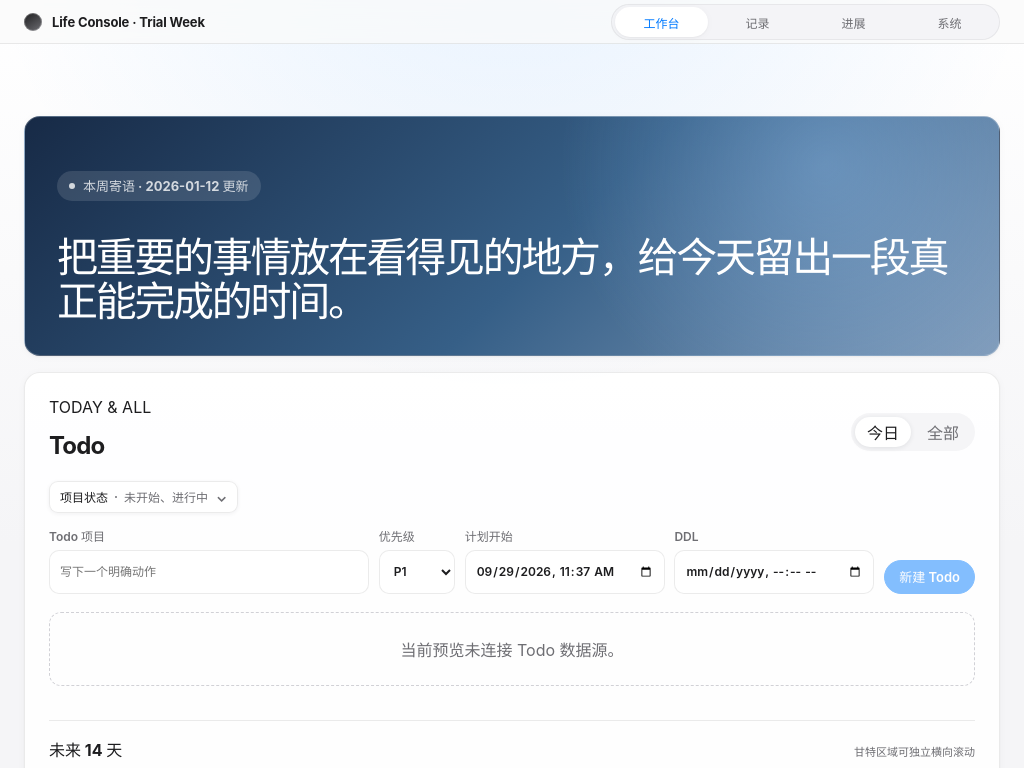
Test case: Life Console synthetic UI › keeps confirmed auxiliary goals on the progress page
Click the button "进展": {"x": 854, "y": 22} [807,7,900,37]
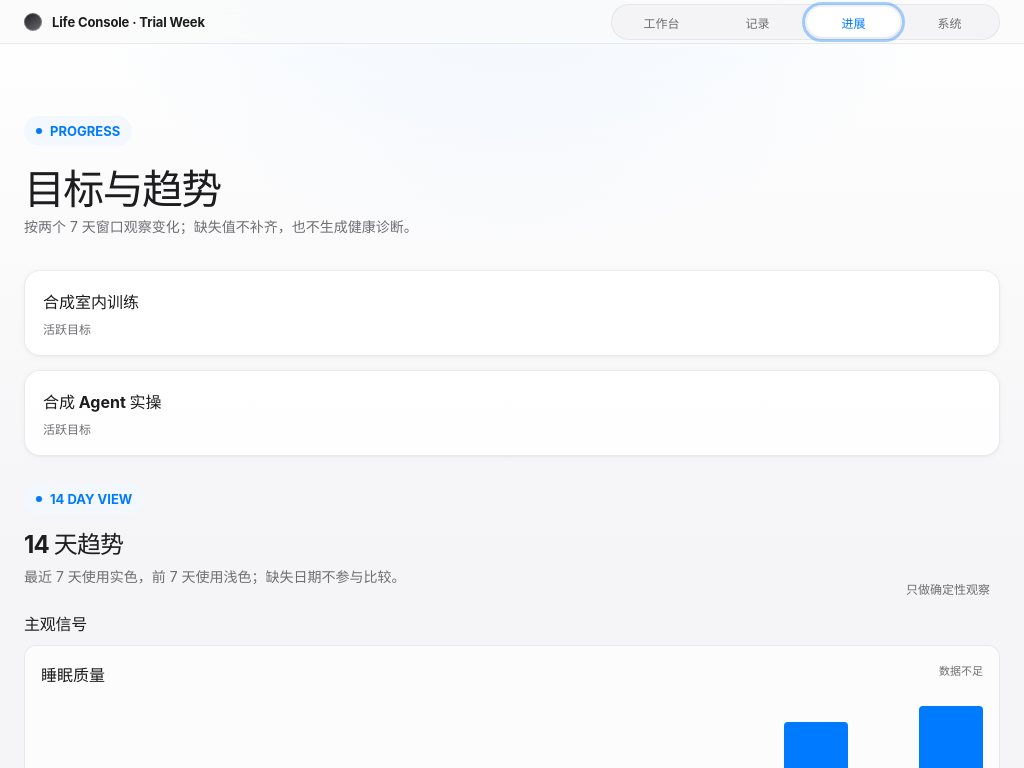
Expected: the text "合成室内训练" is shown, [43,292,139,312]
Expected: the text "合成 Agent 实操" is shown, [43,392,162,412]
Expected: the text "活跃目标" below "合成室内训练" is shown, [43,322,91,337]
